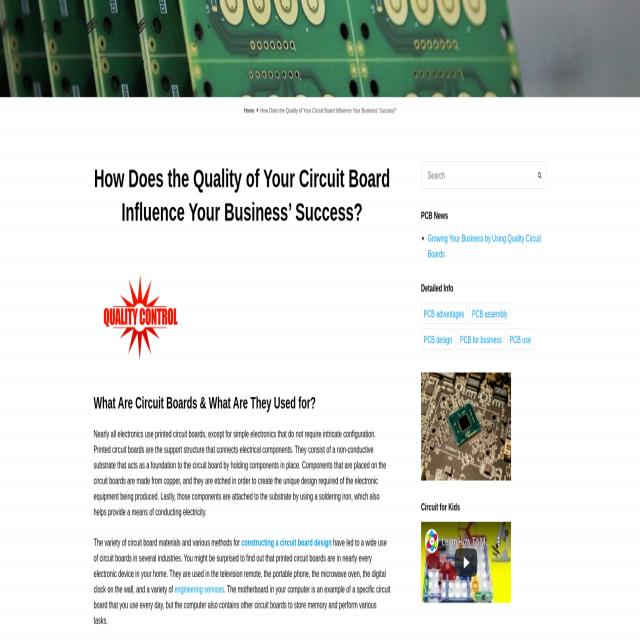button: (94, 259, 184, 373), (421, 372, 511, 480), (420, 522, 511, 603), (455, 550, 478, 576), (495, 534, 504, 552), (538, 172, 542, 178)
field: (421, 161, 547, 189)
